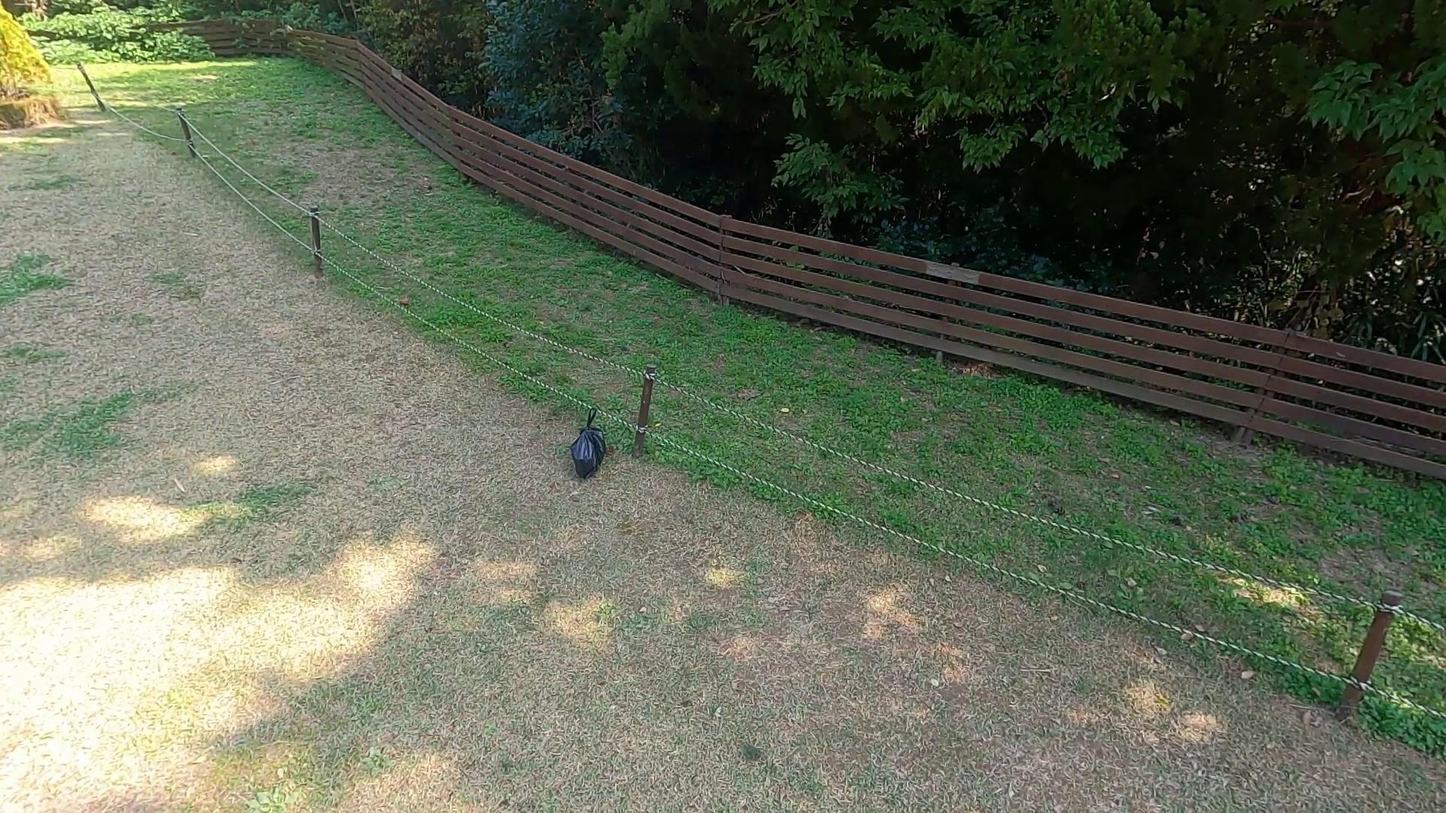trash: (565, 402, 609, 478)
